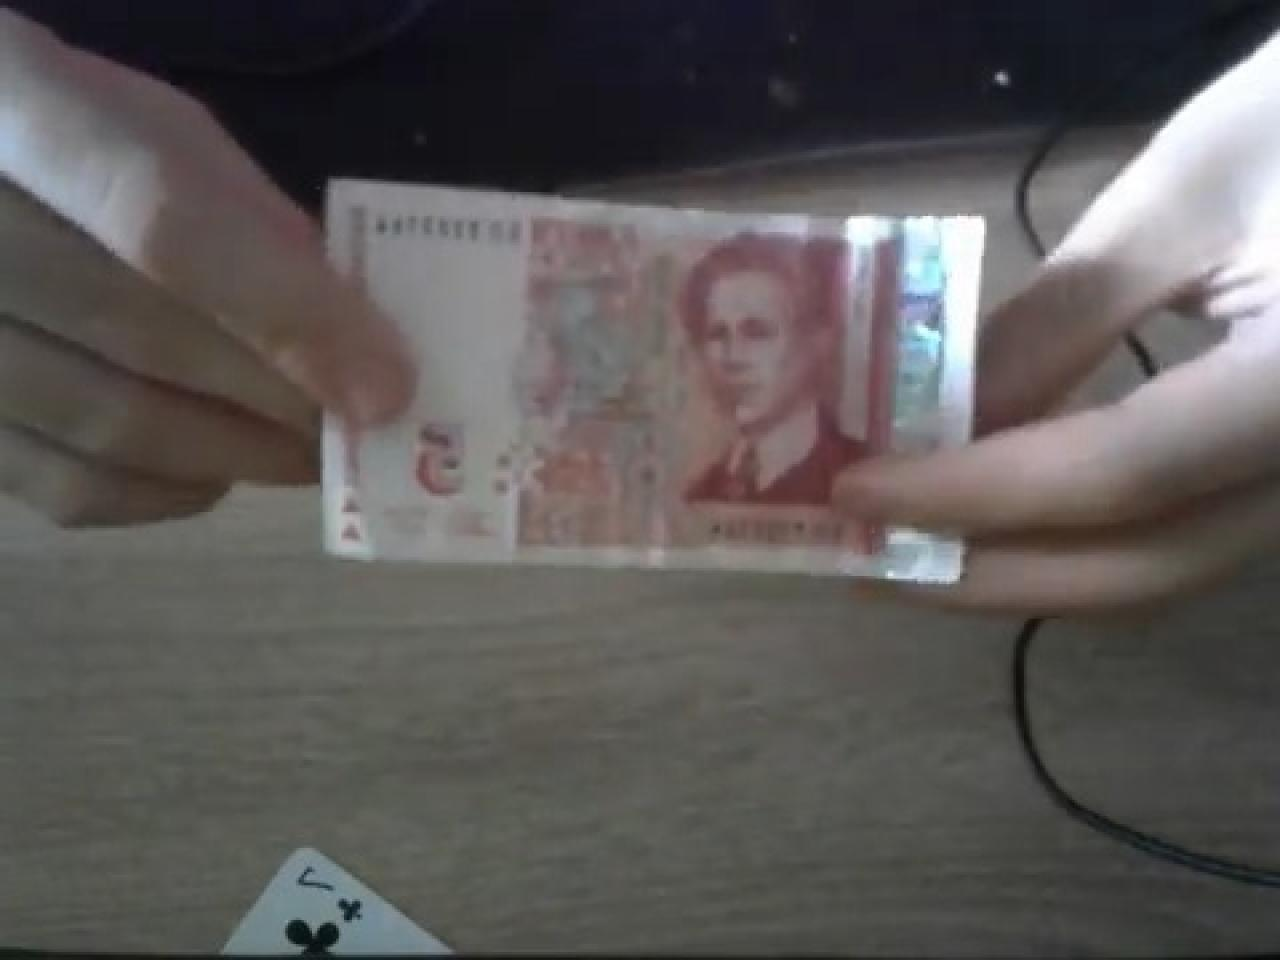5leva: (326, 178, 954, 579)
